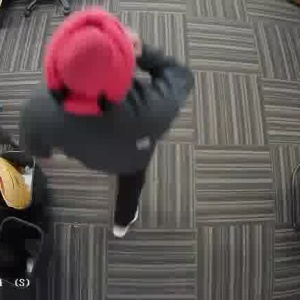person: (27, 23, 173, 196)
